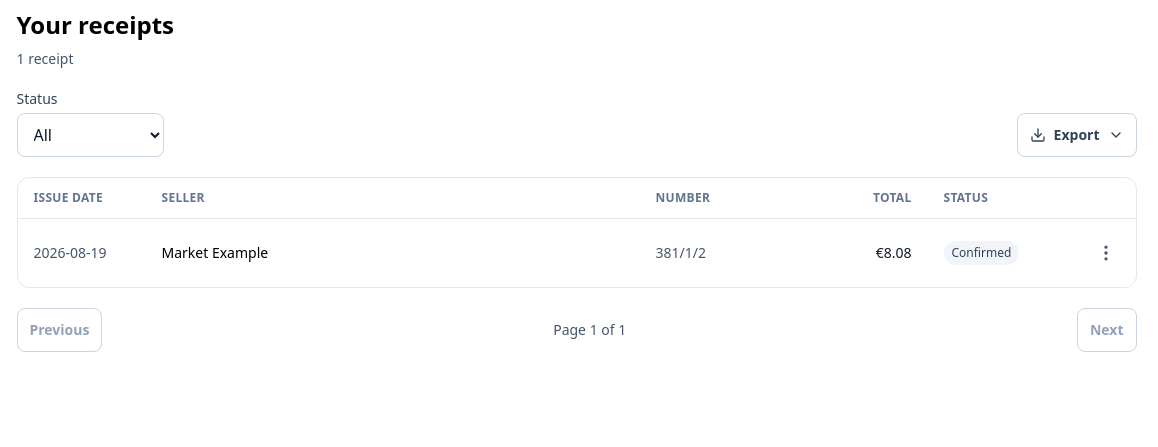
Test case: HistoryPage › reports an export failure without blocking the next attempt
Click the button "Export": click(1077, 135) [1017,113,1136,157]
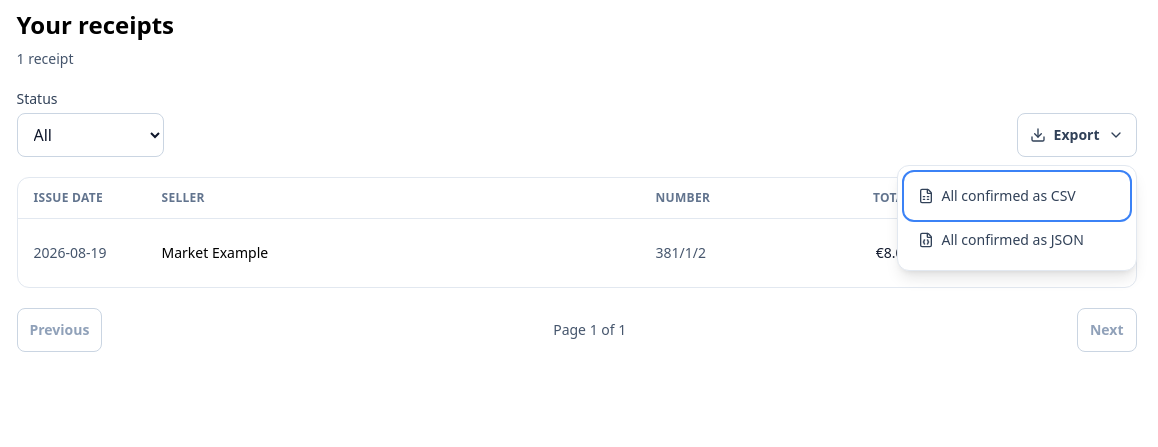
Click the button "All confirmed as CSV": click(1016, 196) [906,174,1128,218]
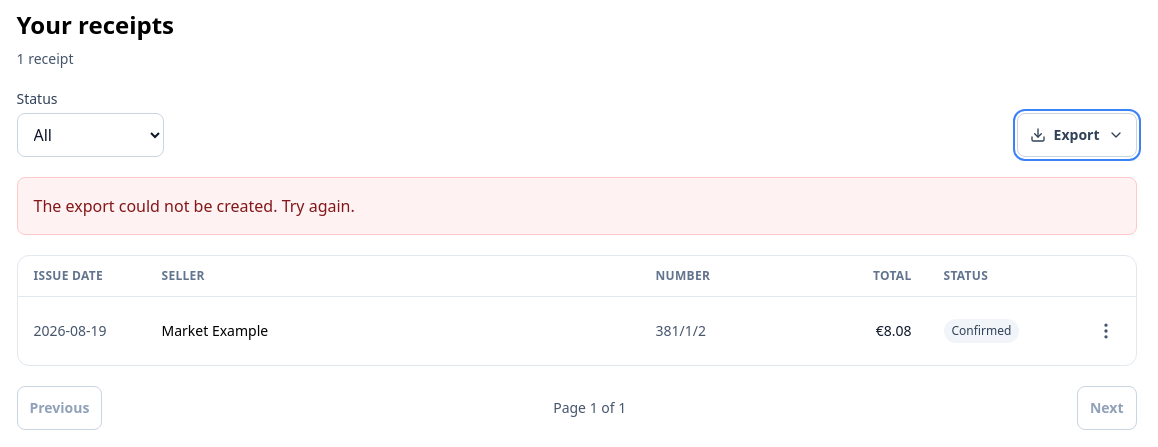
Expected: the button "Export" is enabled, [1017,113,1136,157]
Result: the text "The export could not be created. Try again." is shown at [34,195,355,217]
